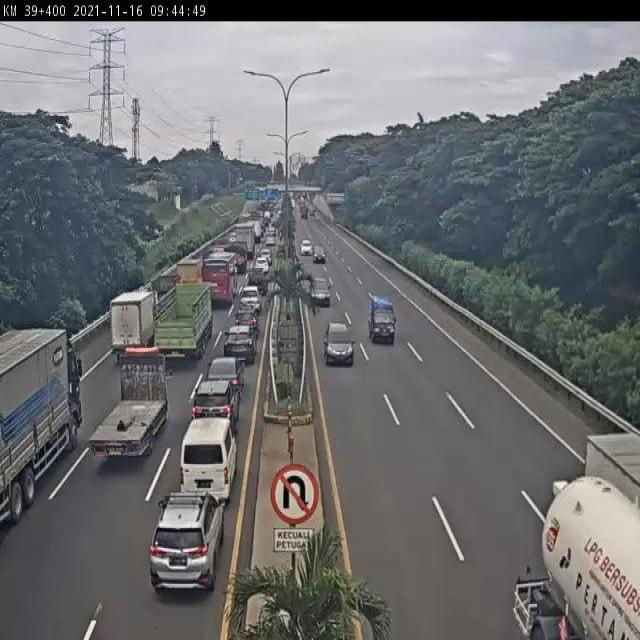big bus: (199, 248, 239, 307)
car: (151, 489, 225, 596), (188, 382, 236, 447), (205, 355, 246, 396), (368, 295, 398, 341), (223, 327, 255, 365), (324, 322, 354, 362), (232, 308, 259, 335), (236, 288, 261, 316), (308, 280, 331, 305)
small bus: (181, 422, 241, 507)
small truck: (173, 253, 206, 300)
truck-l-: (0, 328, 86, 537), (152, 280, 211, 365)
truck-m-: (81, 350, 171, 470), (111, 287, 157, 356), (144, 274, 182, 314)
truck-xl-: (510, 476, 640, 640)
